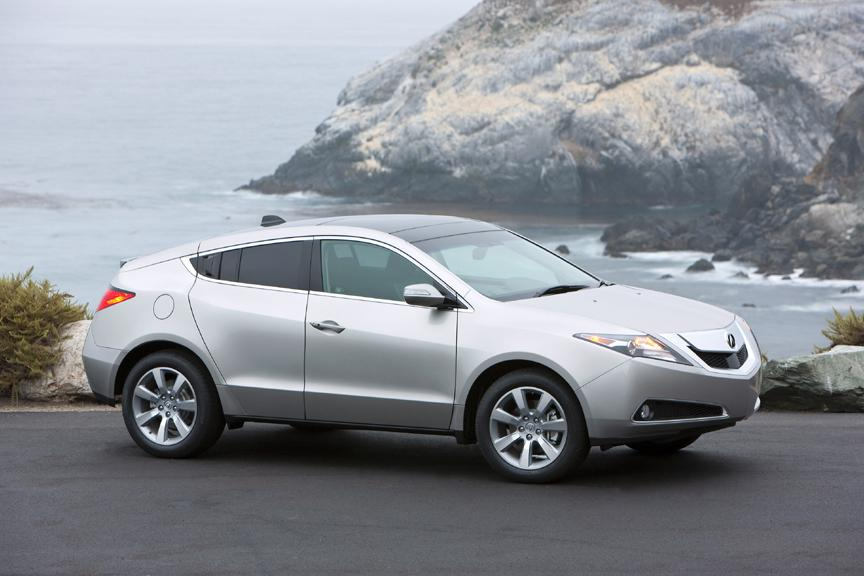Car: (55, 187, 786, 515)
